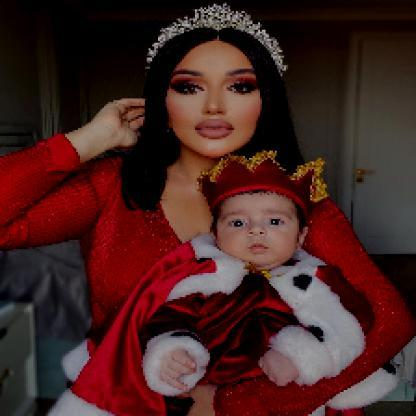child: (142, 191, 376, 397)
